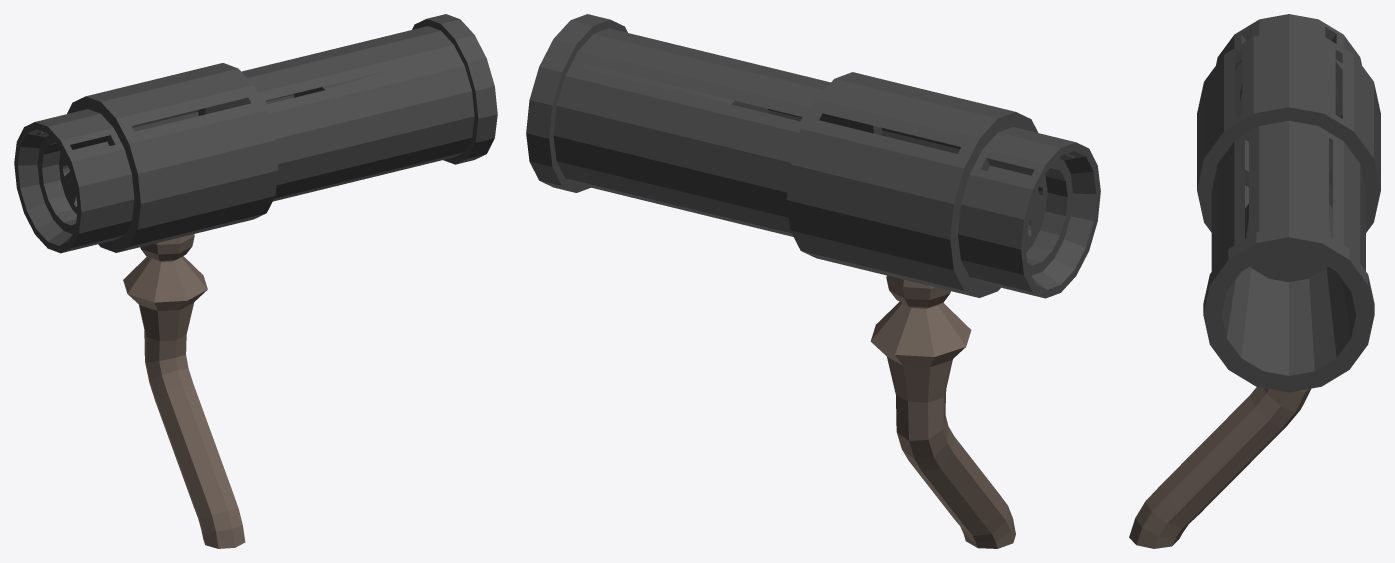
The model's file is arma.fbx.
The picture shows the model from 3 angles, left to right: view 1: azimuth 30°, elevation 25°; view 2: azimuth 150°, elevation 25°; view 3: azimuth 270°, elevation 25°; orthographic projection. The views are drawn at different scales.
Visible parts, largest first — view 1: Canon, Base Fija; view 2: Canon, Base Fija; view 3: Canon, Base Fija.
Part boxes in pixels (box(x1,y1,x2,y2)): Canon: box(14, 14, 497, 253); Base Fija: box(123, 234, 245, 548); Canon: box(526, 14, 1100, 298); Base Fija: box(870, 275, 1015, 548); Canon: box(1197, 14, 1380, 392); Base Fija: box(1129, 387, 1310, 548).
Bounding box in the file's own units: 557 × 531 × 257.
